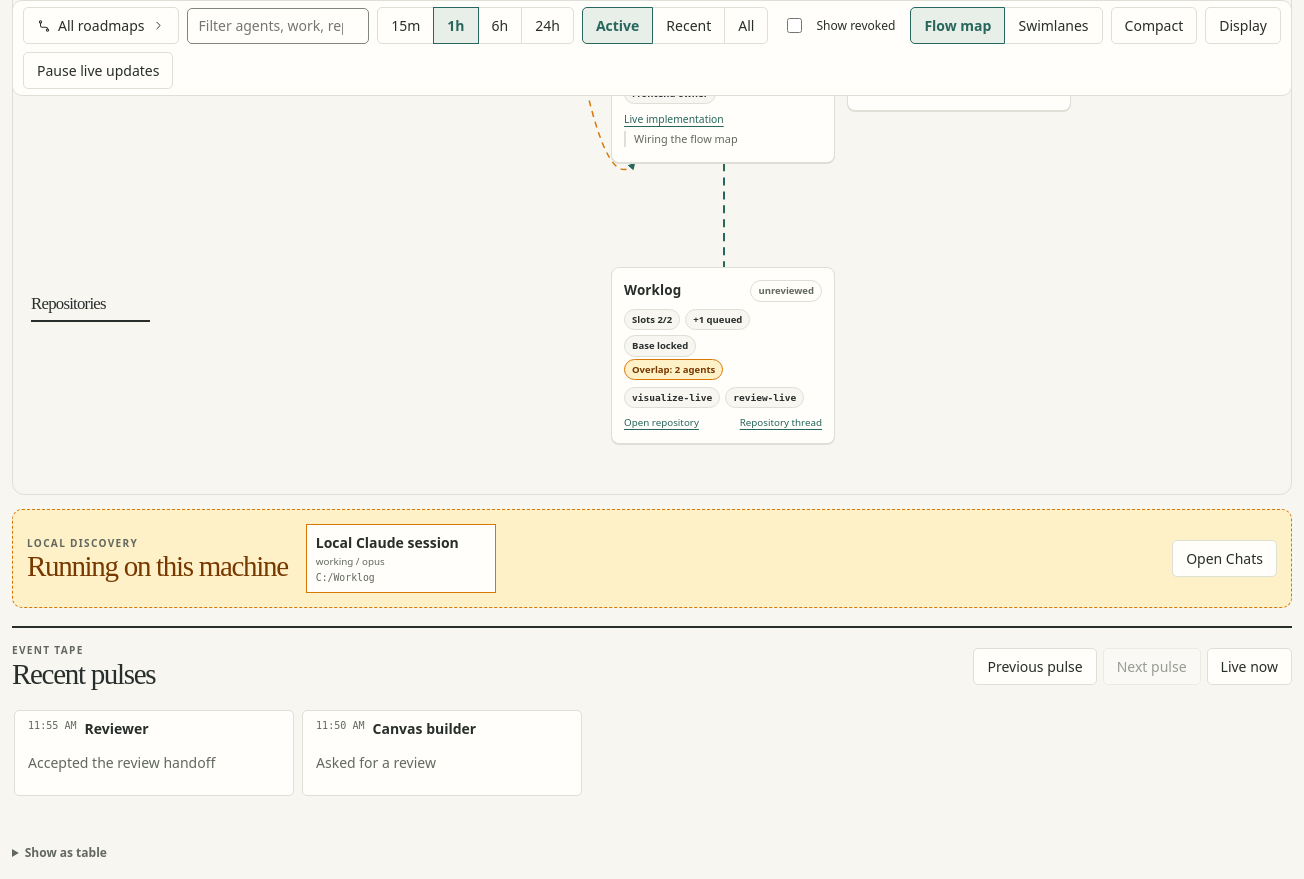
Test: Live › switches to time-scaled agent swimlanes
(page scrolled)
Click the button "Previous pulse" at (1035, 666), box [973,648,1097,685]
(page scrolled)
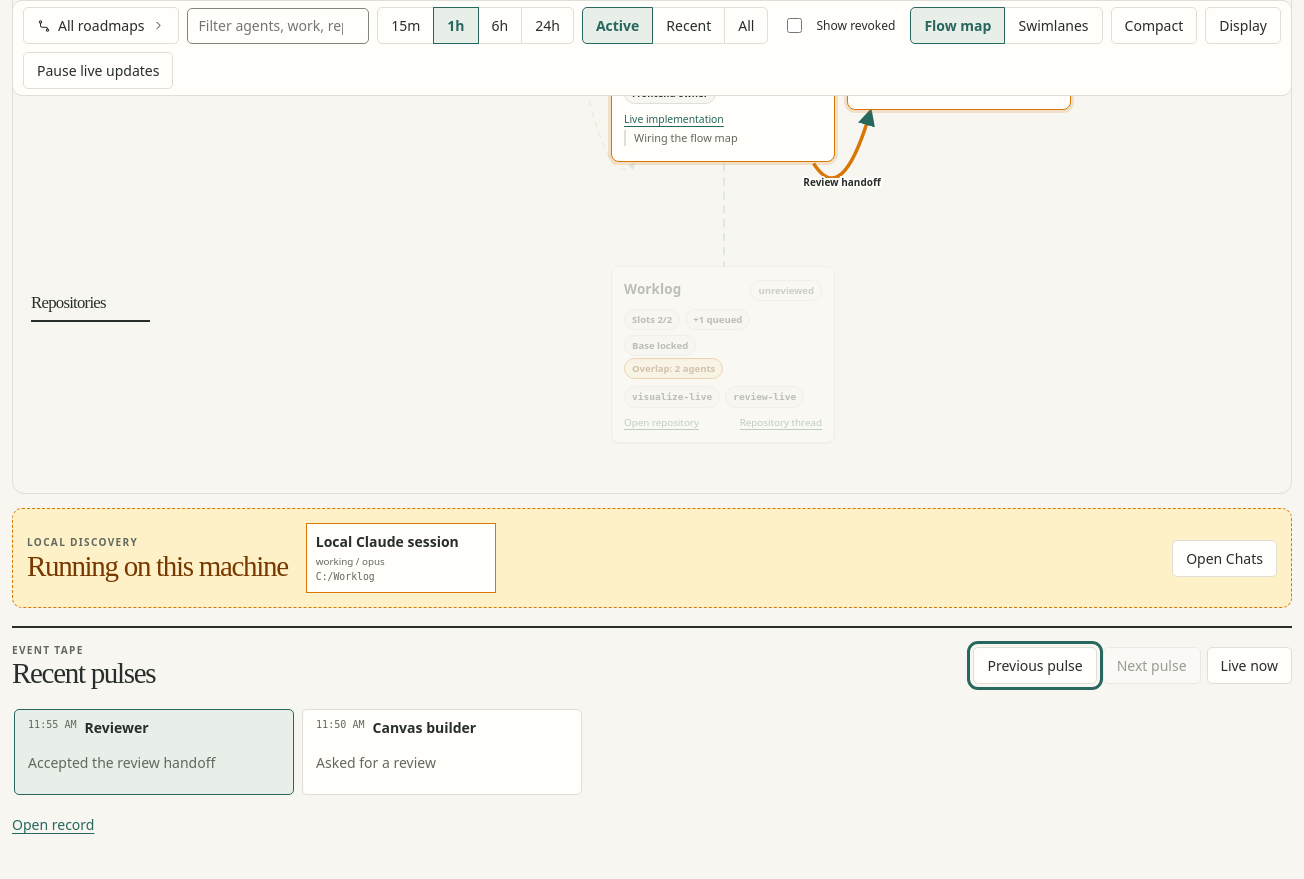
Click the button "Previous pulse" at (1035, 666), box [973,647,1097,684]
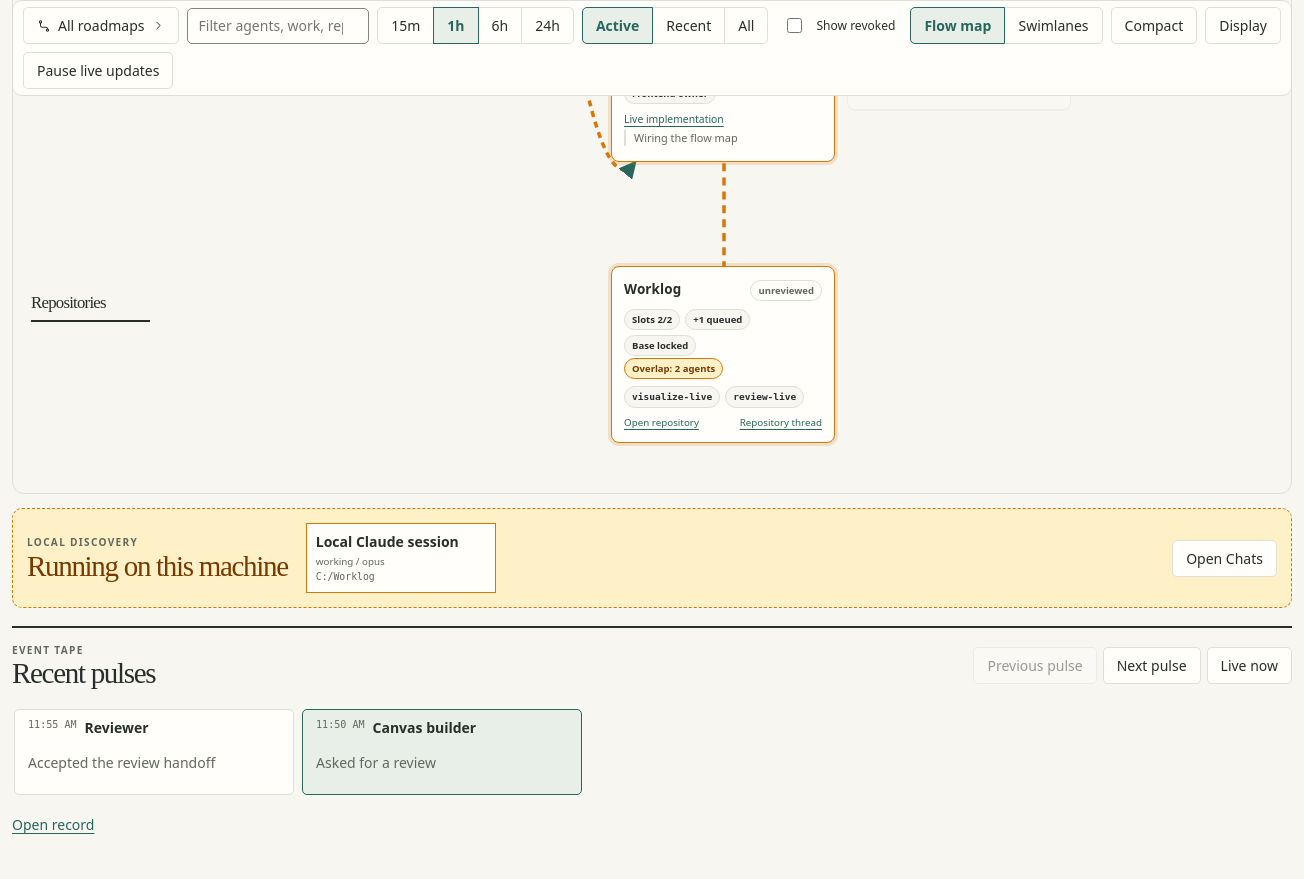
Click the button "Swimlanes" at (1054, 26), box [1004,7,1103,44]
(page scrolled)
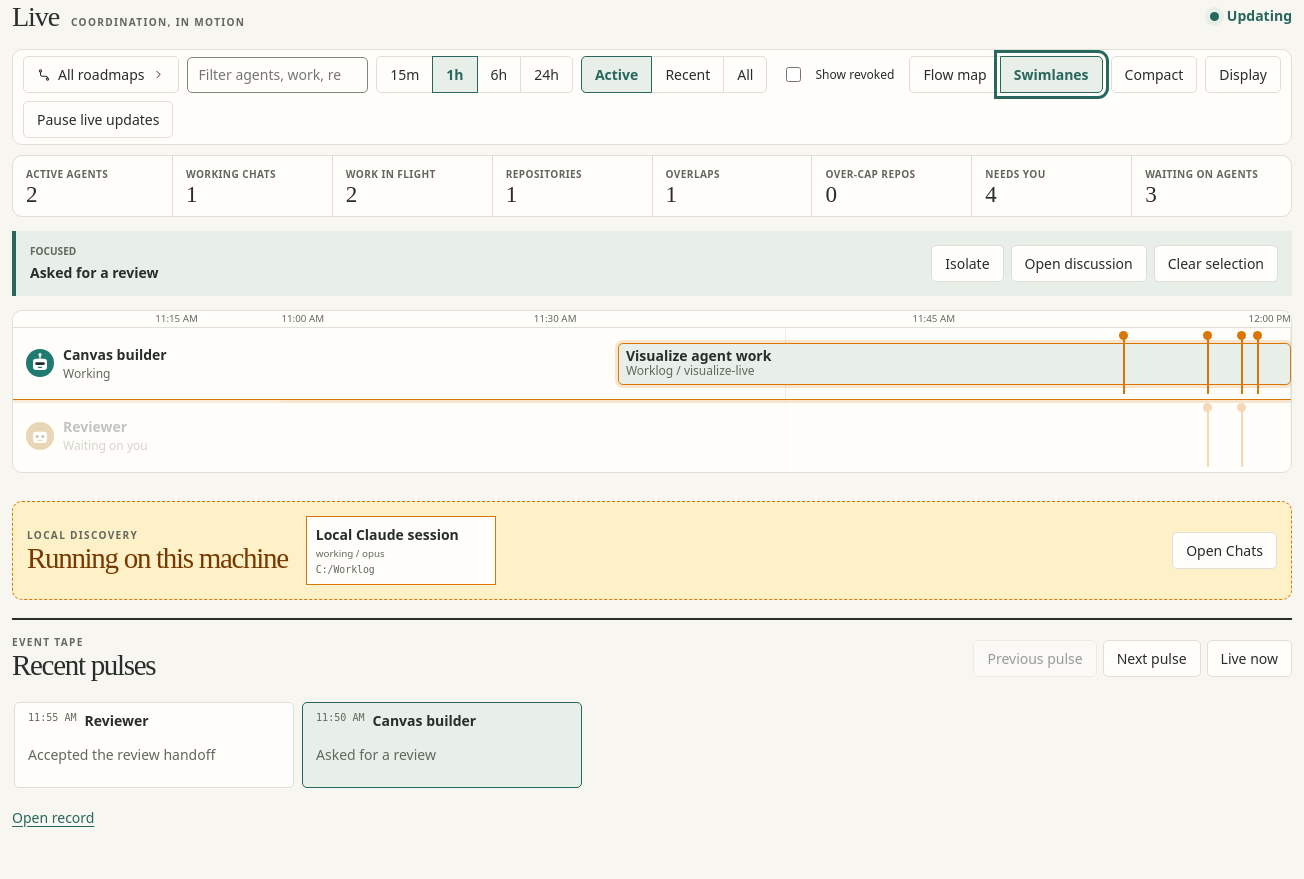
Expected: the text "Canvas builder" in the row of "Visualize agent work" is shown, [63,345,167,364]
Now the link titled "Review requested" is shown, box [1257,333,1259,394]
